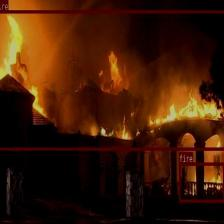fire: (0, 10, 224, 149), (178, 162, 224, 202)
